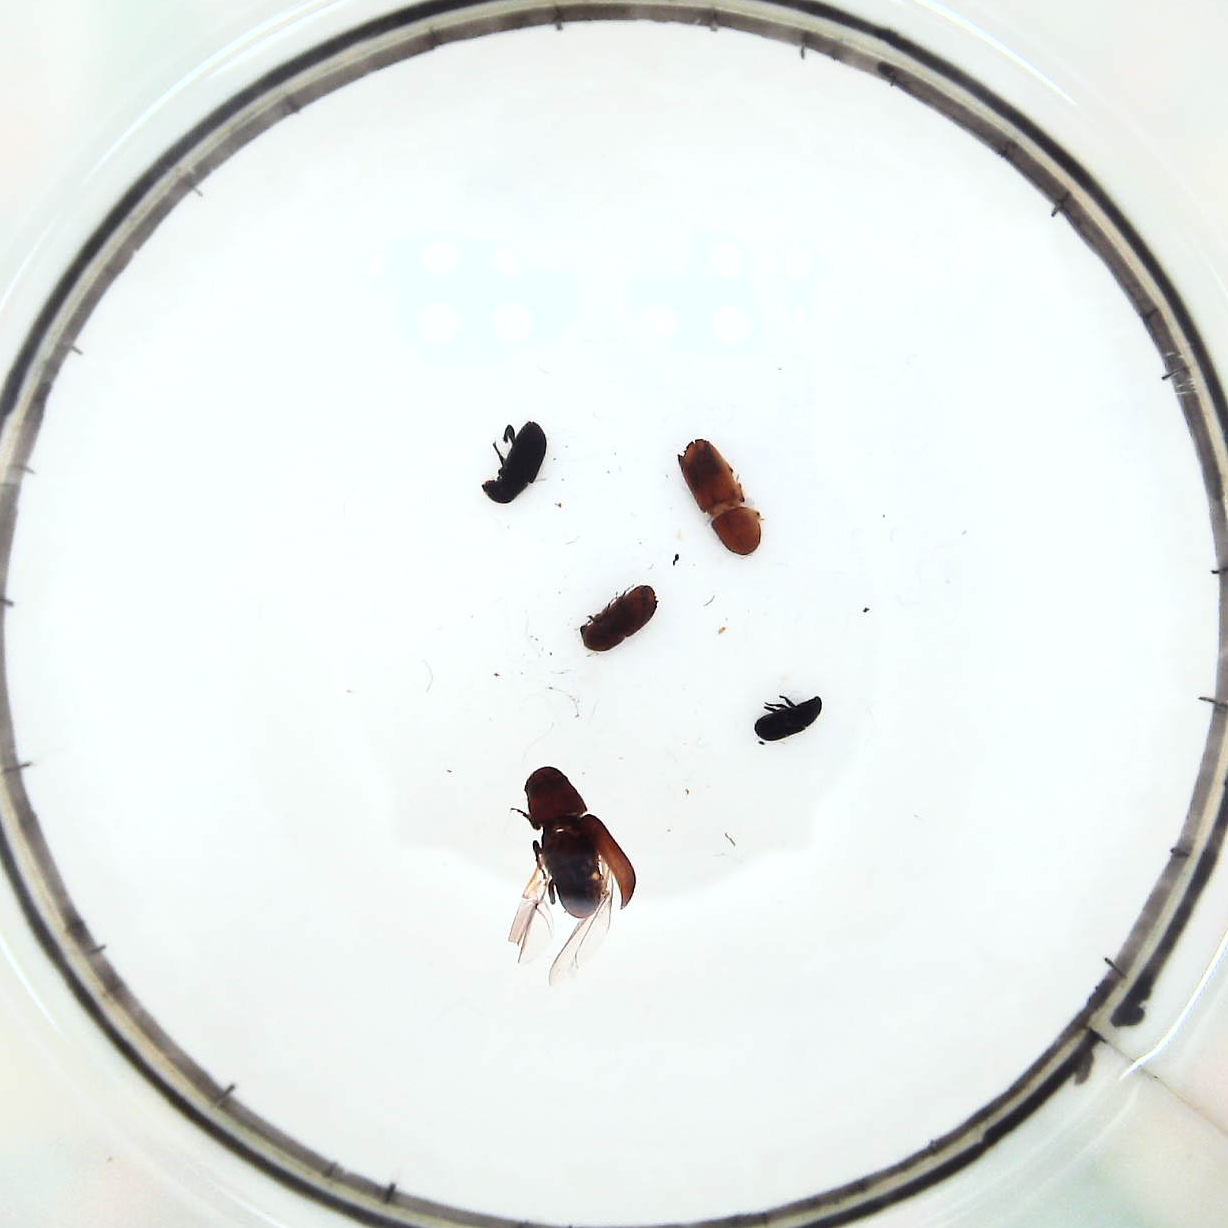Boerner: (680, 437, 762, 561)
Leconte: (507, 765, 636, 982)
Linnaeus: (583, 583, 658, 653)
armandi: (484, 419, 548, 502)
coleoptera: (757, 693, 824, 747)
